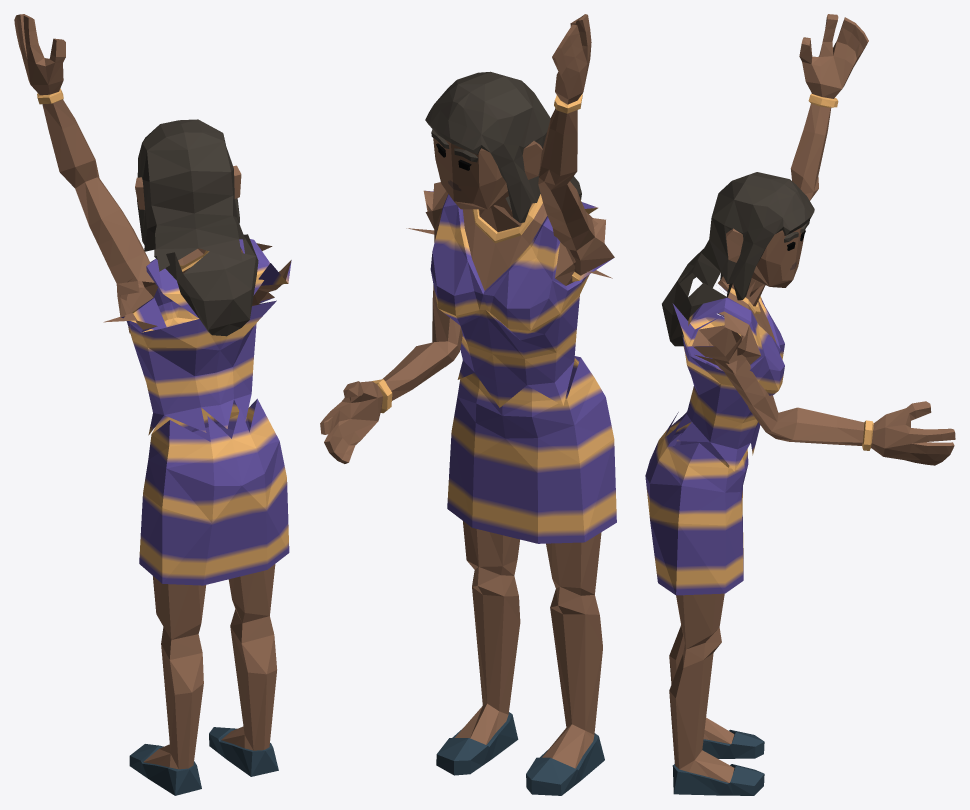
The model's file is Nurse_drip.obj.
3 views of the same model, side by side, from view 1: azimuth 30°, elevation 25°; view 2: azimuth 150°, elevation 25°; view 3: azimuth 270°, elevation 25° (orthographic). The views are drawn at different scales.
Visible parts, largest first — view 1: Nurse_drip; view 2: Nurse_drip; view 3: Nurse_drip.
Boxes of the visible parts, x1=… form: Nurse_drip: x1=14, y1=14, x2=291, y2=795; Nurse_drip: x1=320, y1=14, x2=616, y2=795; Nurse_drip: x1=645, y1=14, x2=955, y2=795.
Bounding box in the file's own units: 0.6393 × 2.13 × 0.8532.
Materials: 1 (1 with a texture image).
